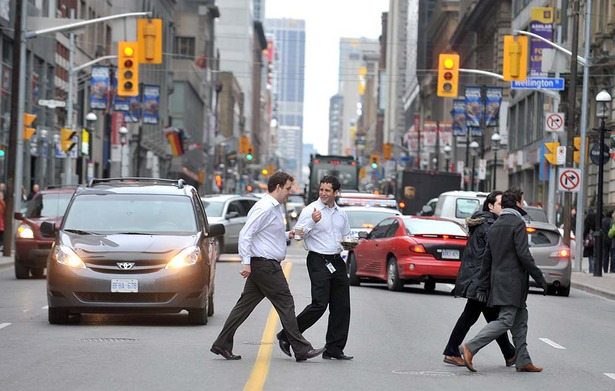person: (207, 158, 324, 357), (465, 184, 551, 375), (292, 163, 367, 369)
